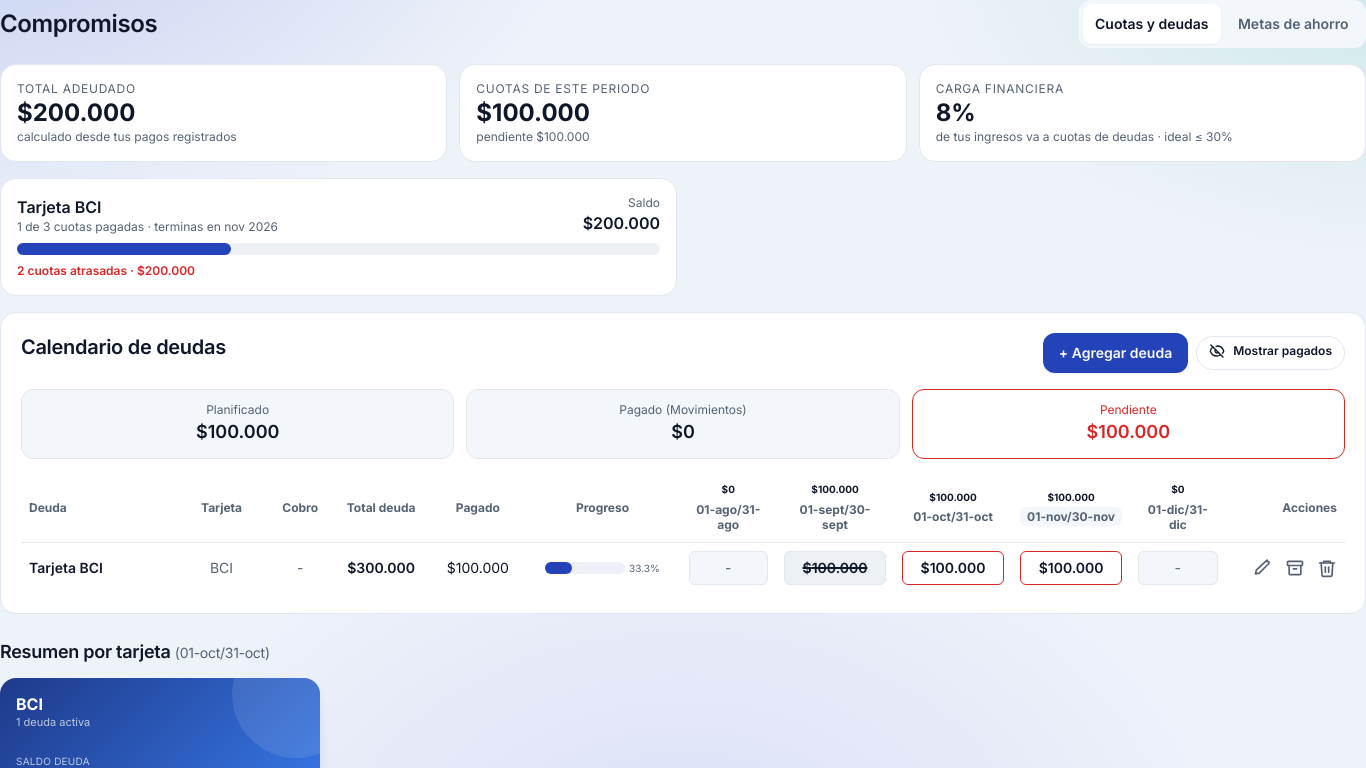
Nueva deuda en modal › el formulario no está a la vista hasta pulsar "Agregar deuda"
Expected: the field with placeholder "Nombre (ej." is not shown
Click the button "+ Agregar deuda" at (1115, 353), box [1043,333,1188,373]
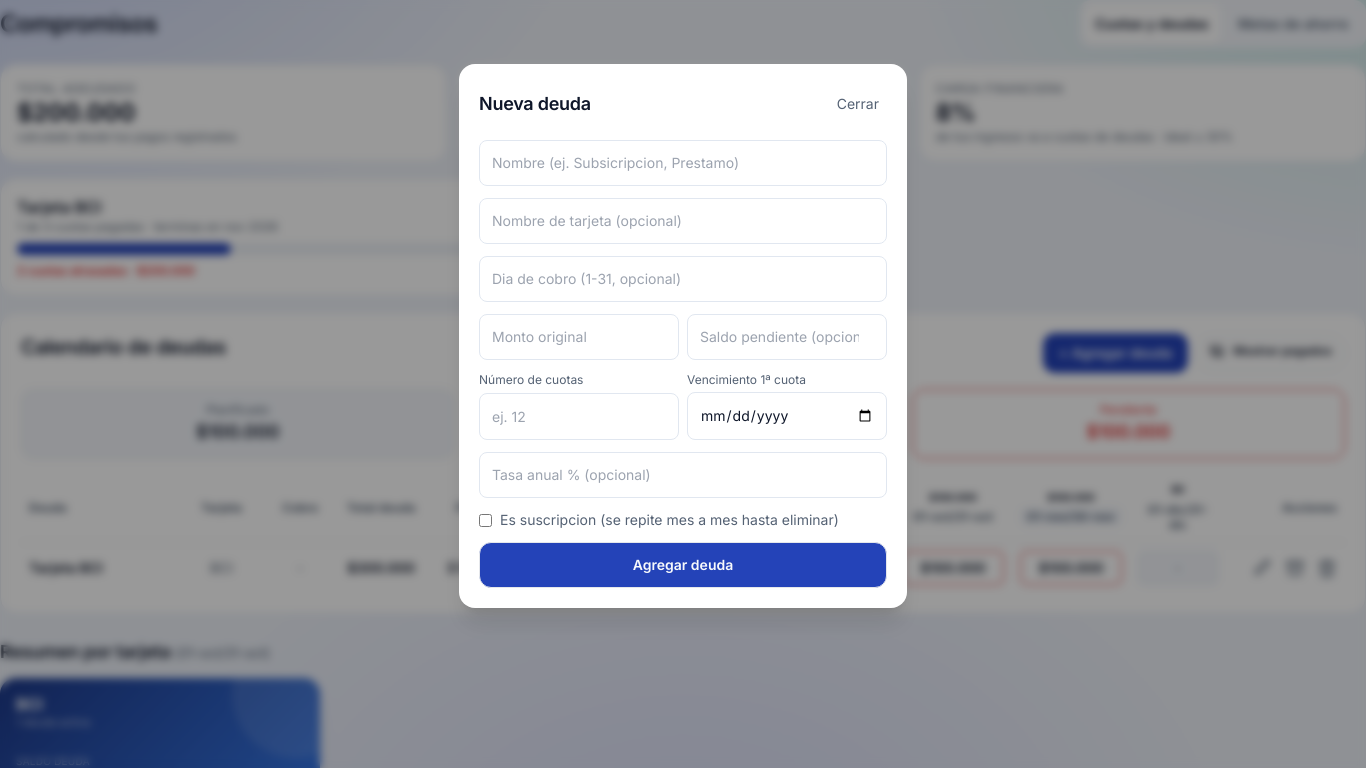
Now the dialog "Nueva deuda" is shown, box [459,64,907,608]
Now the field with placeholder "Nombre (ej. Subsicripcion, Prestamo)" is shown, box [479,140,887,186]
Press Escape
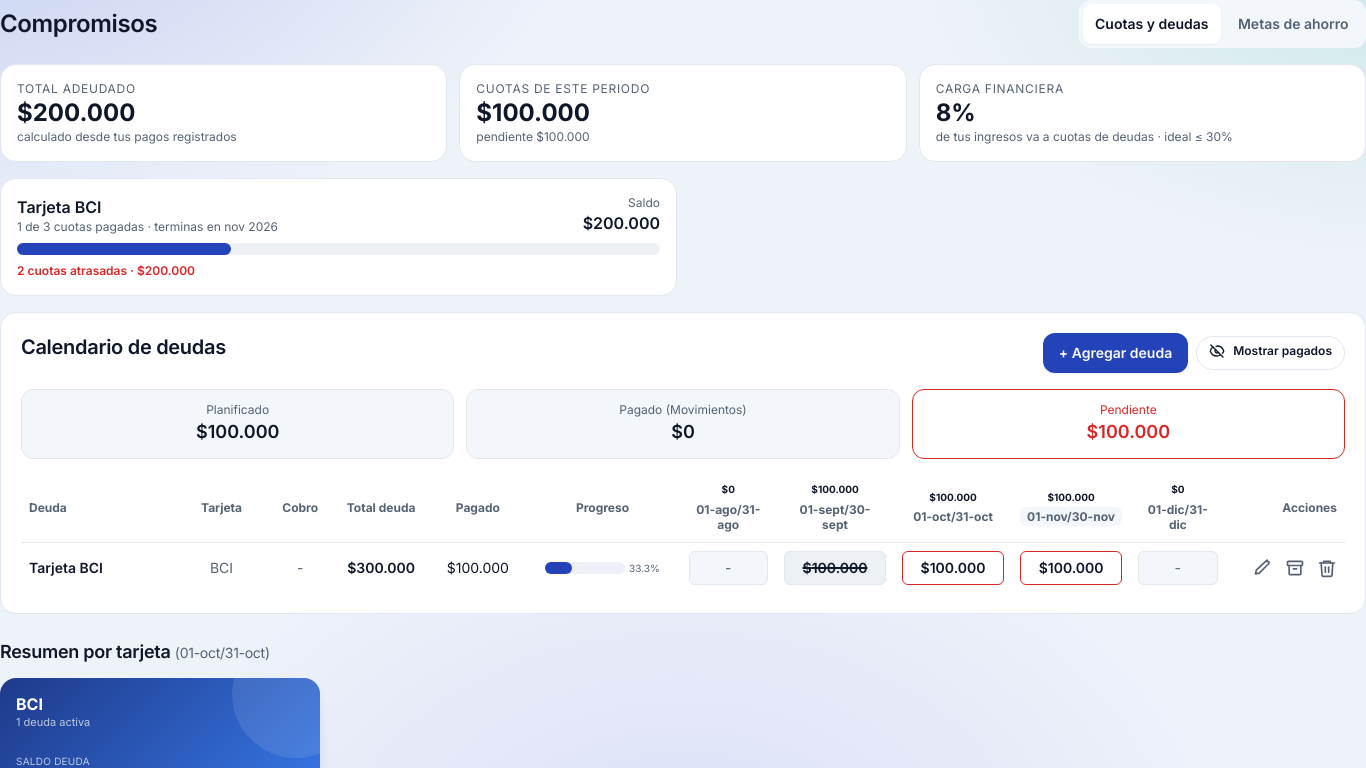
Now the heading "Nueva deuda" is gone
